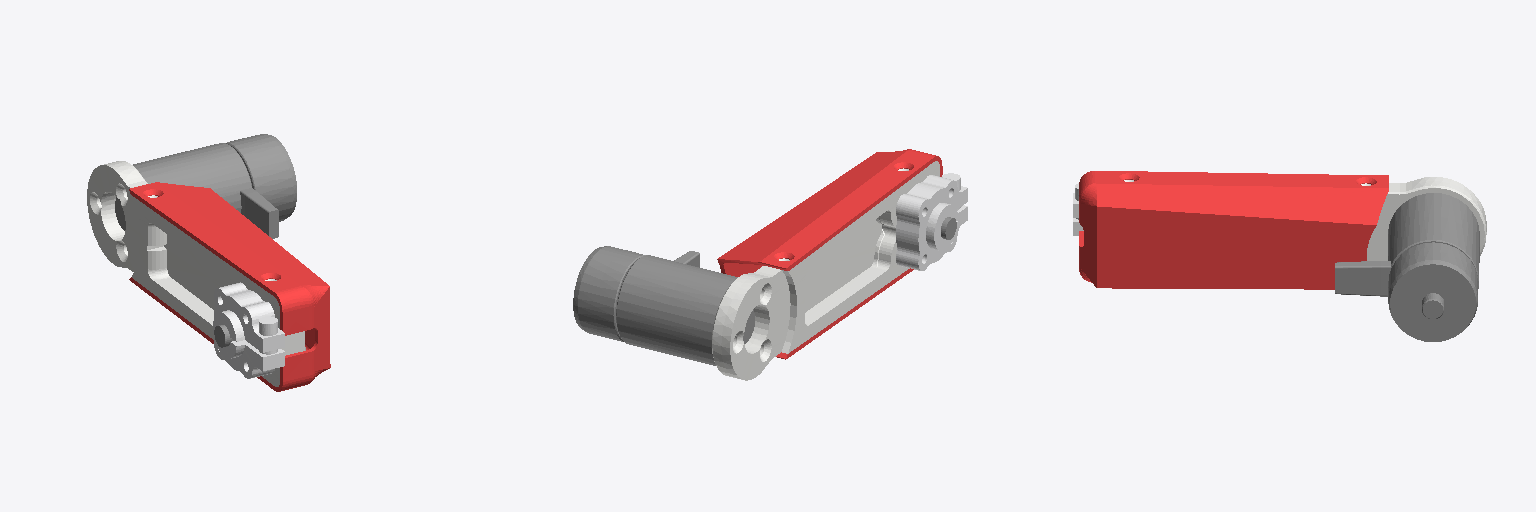
The model's file is upper_leg_left_rear.obj.
3 views of the same model, side by side, from view 1: azimuth 30°, elevation 25°; view 2: azimuth 150°, elevation 25°; view 3: azimuth 270°, elevation 25° (orthographic).
Parts seen in each view (by area): view 1: Body2.001; view 2: Body2.001; view 3: Body2.001.
Boxes of the visible parts, x1,y1,x2,y2 form: Body2.001: [87, 134, 330, 391]; Body2.001: [573, 149, 967, 380]; Body2.001: [1073, 171, 1486, 341].
Size of the model in its own units: 0.0673 by 0.0289 by 0.1098.